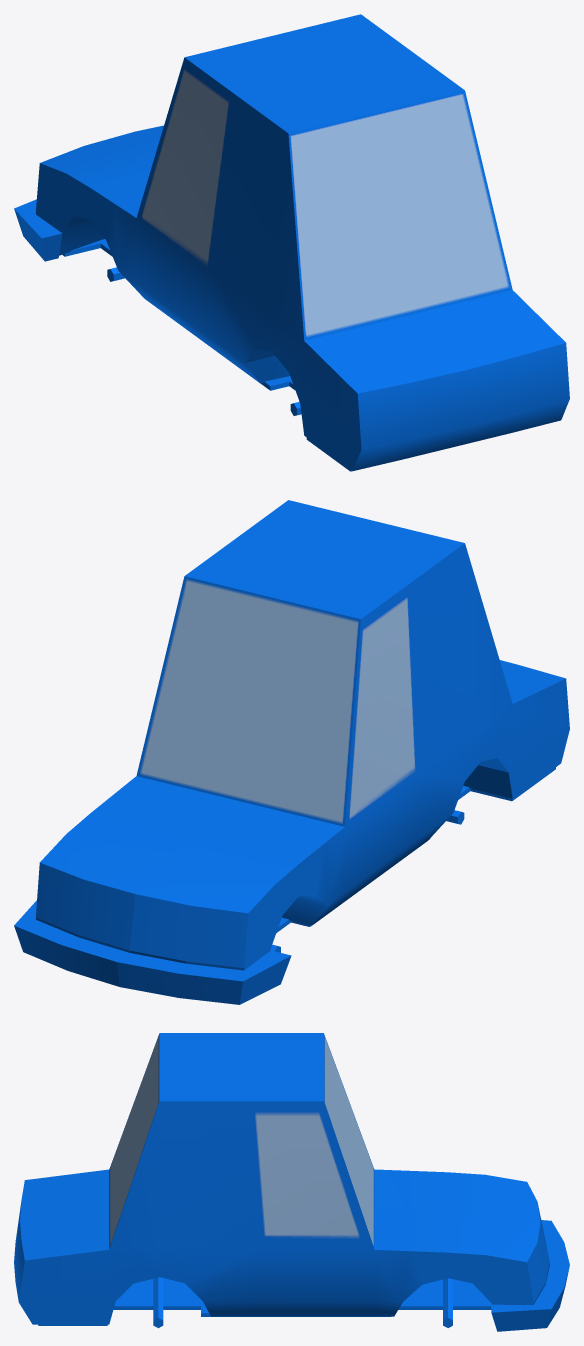
File: Car_Demo.fbx
The picture shows the model from 3 angles, top to bottom: view 1: azimuth 30°, elevation 25°; view 2: azimuth 150°, elevation 25°; view 3: azimuth 270°, elevation 25°; orthographic projection. The views are drawn at different scales.
Parts seen in each view (by area): view 1: Car_Demo; view 2: Car_Demo; view 3: Car_Demo.
Part boxes in pixels (x1,y1,x2,y2): Car_Demo: (14,14,569,471); Car_Demo: (14,500,569,1004); Car_Demo: (14,1033,569,1331).
Size of the model in its own units: 23.45 by 25.42 by 57.22.
